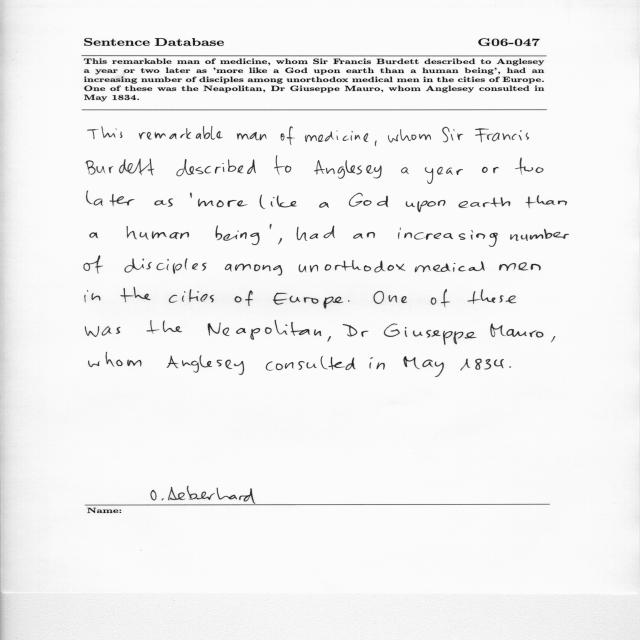word: (208, 320, 322, 340), (384, 323, 476, 345), (398, 228, 498, 247), (167, 355, 244, 375), (176, 159, 256, 176), (266, 356, 356, 371), (124, 258, 207, 274), (314, 160, 382, 179), (299, 260, 406, 272), (139, 126, 223, 140), (86, 159, 155, 176), (273, 293, 343, 309), (403, 356, 444, 377), (216, 226, 260, 245), (127, 226, 189, 239), (491, 323, 544, 338), (89, 352, 142, 367), (415, 262, 485, 273), (305, 130, 369, 142), (475, 128, 529, 142), (86, 191, 135, 206), (468, 289, 516, 304), (510, 229, 569, 241), (225, 264, 282, 276), (425, 167, 463, 184), (169, 289, 214, 303), (388, 129, 431, 143), (459, 197, 511, 208), (259, 194, 297, 209), (297, 226, 335, 241), (349, 193, 388, 207), (526, 195, 567, 208), (460, 359, 504, 371), (147, 320, 182, 334), (406, 200, 446, 212), (515, 158, 543, 175), (120, 287, 151, 302), (88, 126, 123, 139), (373, 291, 407, 304), (198, 199, 248, 207), (85, 326, 121, 337), (499, 262, 541, 271), (274, 156, 292, 175), (84, 256, 103, 274), (431, 289, 450, 307), (343, 324, 369, 337), (443, 127, 464, 142), (235, 291, 253, 307), (281, 126, 294, 145), (237, 132, 266, 140), (369, 357, 385, 370), (85, 290, 100, 302), (154, 198, 173, 207), (353, 232, 375, 239), (482, 167, 499, 173), (319, 202, 329, 208), (401, 167, 409, 174), (90, 233, 98, 239), (278, 238, 282, 244), (327, 336, 331, 342), (551, 336, 555, 342), (375, 141, 377, 147), (190, 193, 192, 198), (270, 224, 272, 229), (348, 300, 350, 302), (509, 366, 511, 368)
